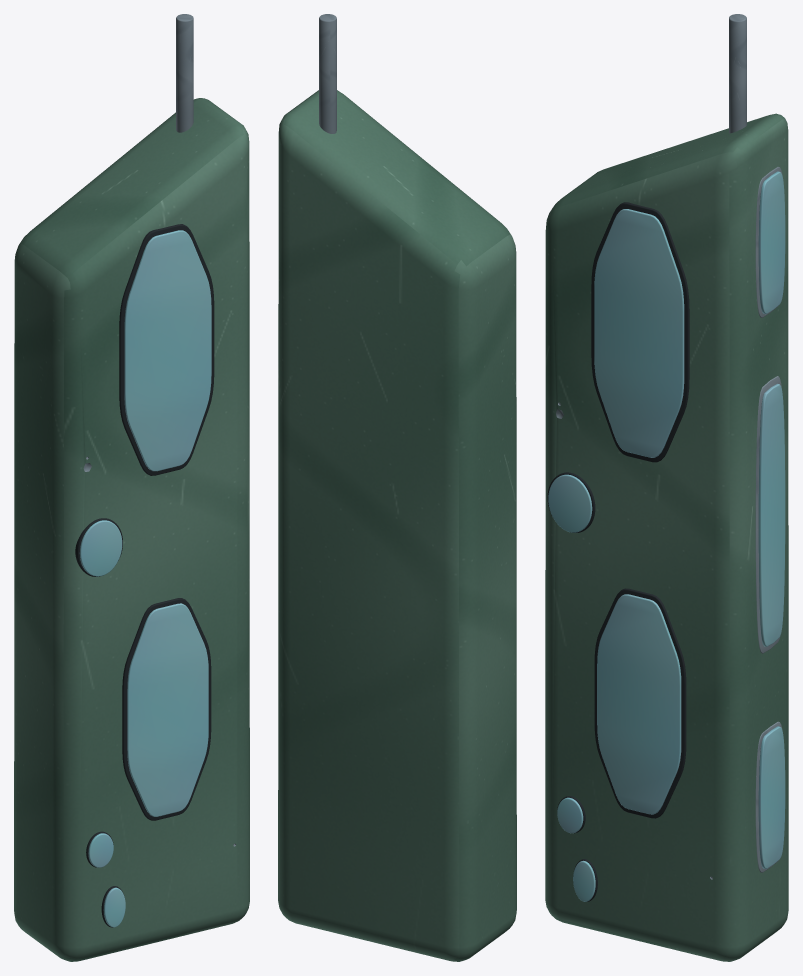
The picture shows the model from 3 angles, left to right: view 1: azimuth 30°, elevation 25°; view 2: azimuth 150°, elevation 25°; view 3: azimuth 330°, elevation 25°; orthographic projection. The views are drawn at different scales.
Parts seen in each view (by area): view 1: Shielded Solars green upright shell, Shielded Solars upper collector face, Shielded Solars lower collector face, Shielded Solars upper collector seat, Shielded Solars lower collector seat, Shielded Solars short top mast, Shielded Solars middle small spot face, Shielded Solars foot small spot face, Shielded Solars lower small spot face; view 2: Shielded Solars green upright shell, Shielded Solars short top mast; view 3: Shielded Solars green upright shell, Shielded Solars upper collector face, Shielded Solars lower collector face, Shielded Solars side collector 1 face, Shielded Solars side collector 2 face, Shielded Solars side collector 0 face, Shielded Solars upper collector seat, Shielded Solars lower collector seat, Shielded Solars short top mast, Shielded Solars middle small spot face, Shielded Solars side collector 1 seat, Shielded Solars foot small spot face (+3 smaller).
Boxes of the visible parts, x1,y1,x2,y2 form: Shielded Solars green upright shell: (14,98,249,961); Shielded Solars upper collector face: (124,230,211,471); Shielded Solars lower collector face: (127,603,208,816); Shielded Solars upper collector seat: (119,224,214,475); Shielded Solars lower collector seat: (122,598,211,820); Shielded Solars short top mast: (176,14,193,132); Shielded Solars middle small spot face: (79,520,122,576); Shielded Solars foot small spot face: (103,887,125,927); Shielded Solars lower small spot face: (88,833,113,867); Shielded Solars green upright shell: (278,90,516,961); Shielded Solars short top mast: (319,14,336,133); Shielded Solars green upright shell: (545,113,788,961); Shielded Solars upper collector face: (594,209,684,457); Shielded Solars lower collector face: (597,594,681,814); Shielded Solars side collector 1 face: (758,383,785,646); Shielded Solars side collector 2 face: (758,726,785,868); Shielded Solars side collector 0 face: (758,171,785,314); Shielded Solars upper collector seat: (591,202,689,462); Shielded Solars lower collector seat: (594,588,686,818); Shielded Solars short top mast: (729,14,746,133); Shielded Solars middle small spot face: (548,474,592,532); Shielded Solars side collector 1 seat: (755,376,781,653); Shielded Solars foot small spot face: (573,860,595,901).
Bounding box in the file's own units: 0.651 × 2.8 × 0.353.
4 materials, 3 textured.
